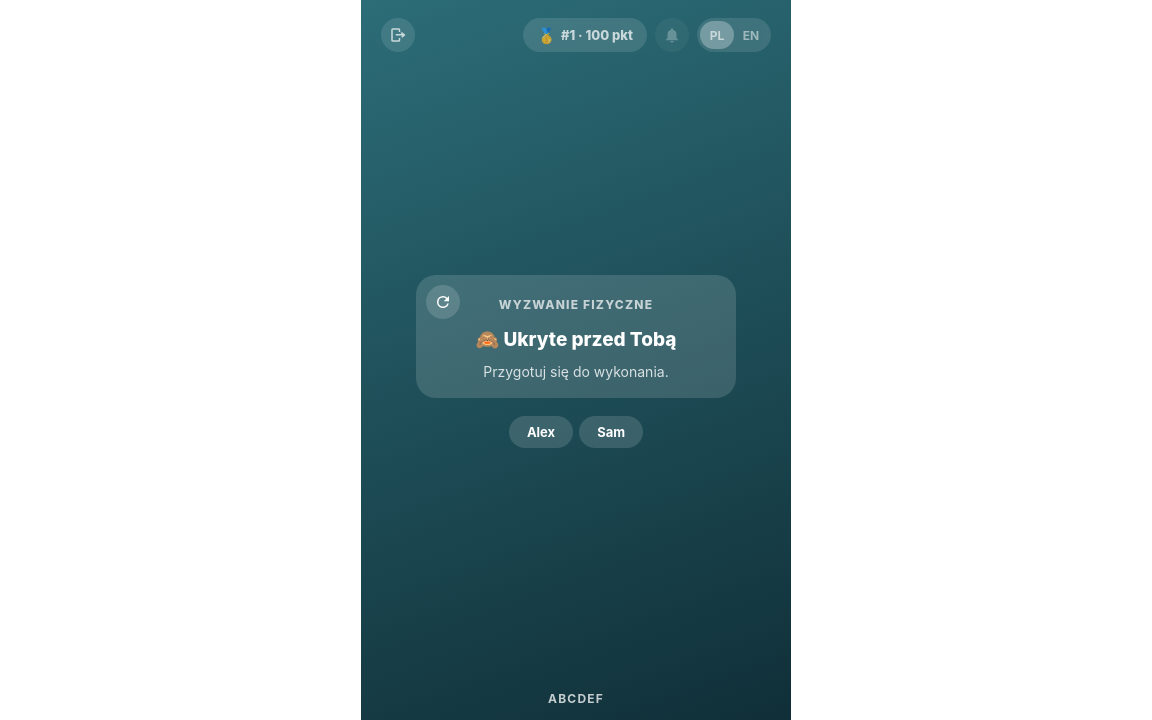
Test: Leaderboard disconnected marker › shows the Host a marker on each Guest whose link is down, and clears it on reconnect
Click the button "🥇 #1 · 100 pkt".
click(585, 35)  # box x1=523 y1=18 x2=647 y2=52
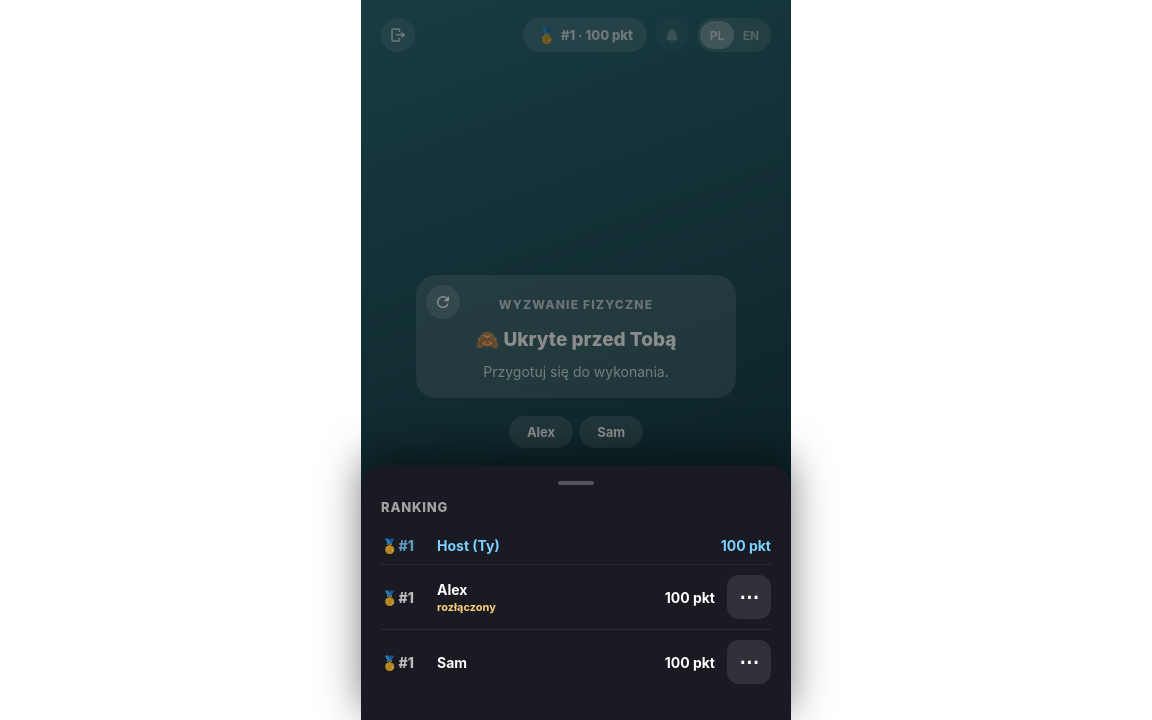
Now the text "rozłączony" is shown once, box x1=437 y1=600 x2=496 y2=614
